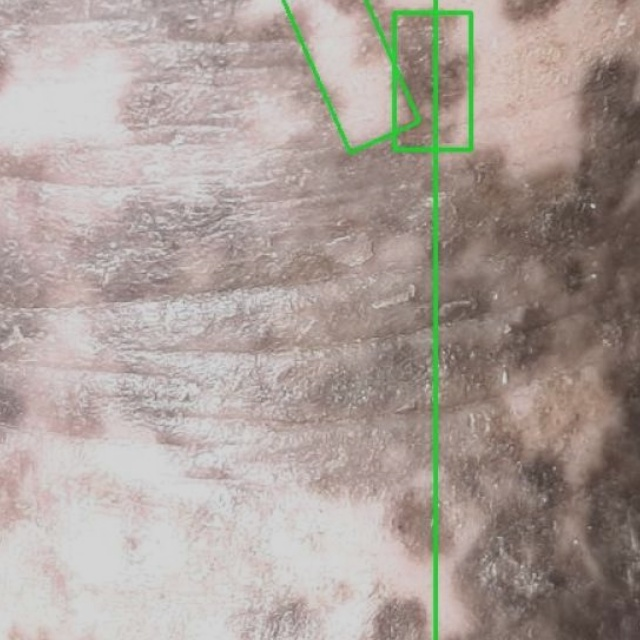Eczema: (435, 0, 639, 639), (282, 0, 419, 153), (394, 12, 471, 149)
